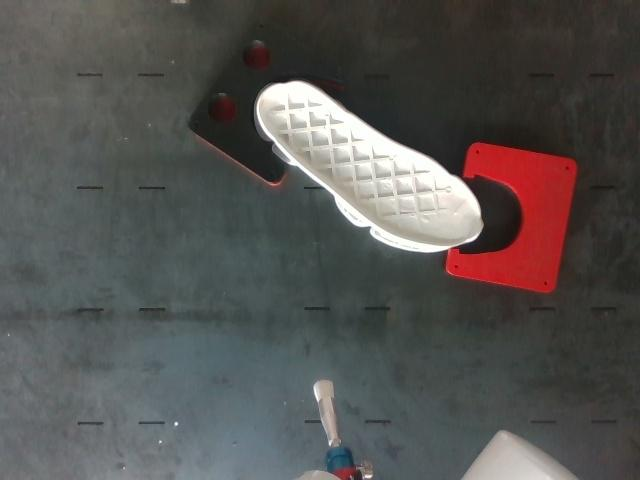shoes: (259, 82, 481, 246)
